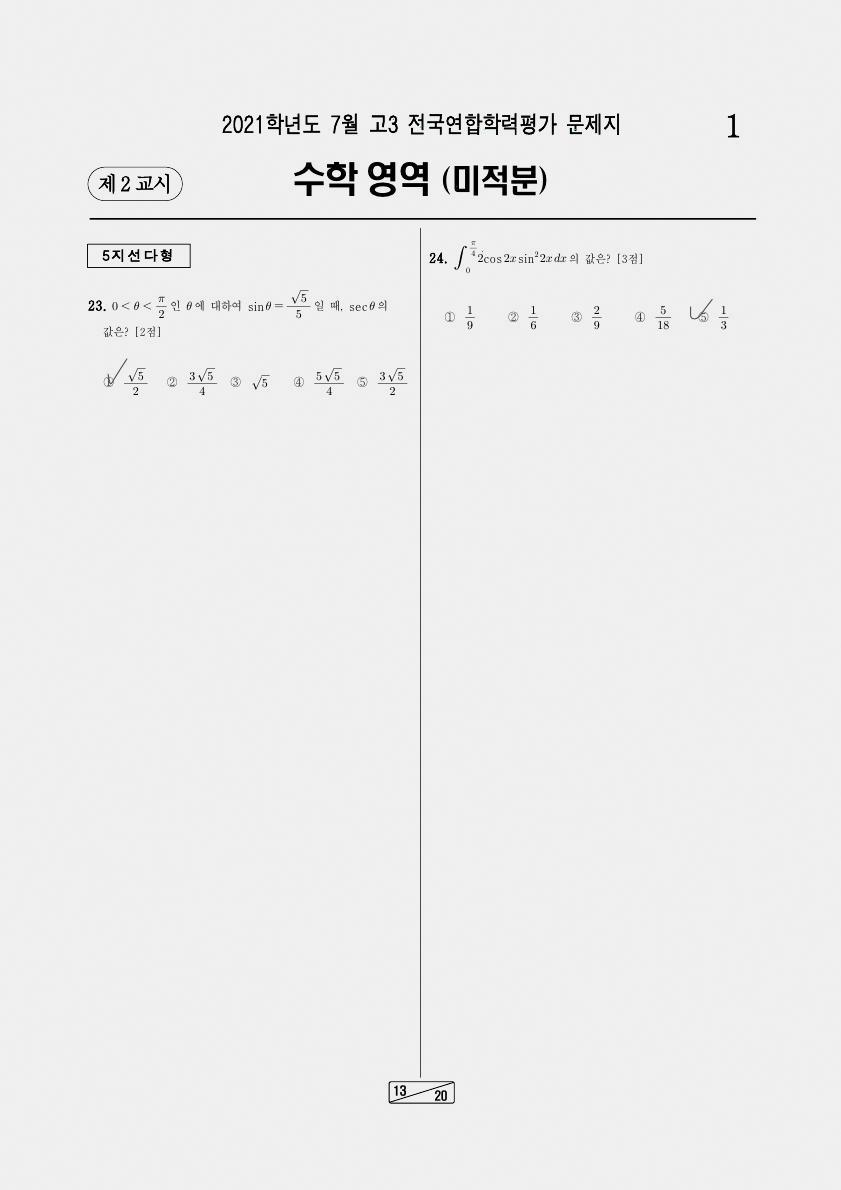question: (71, 284, 416, 422), (423, 232, 742, 358)
